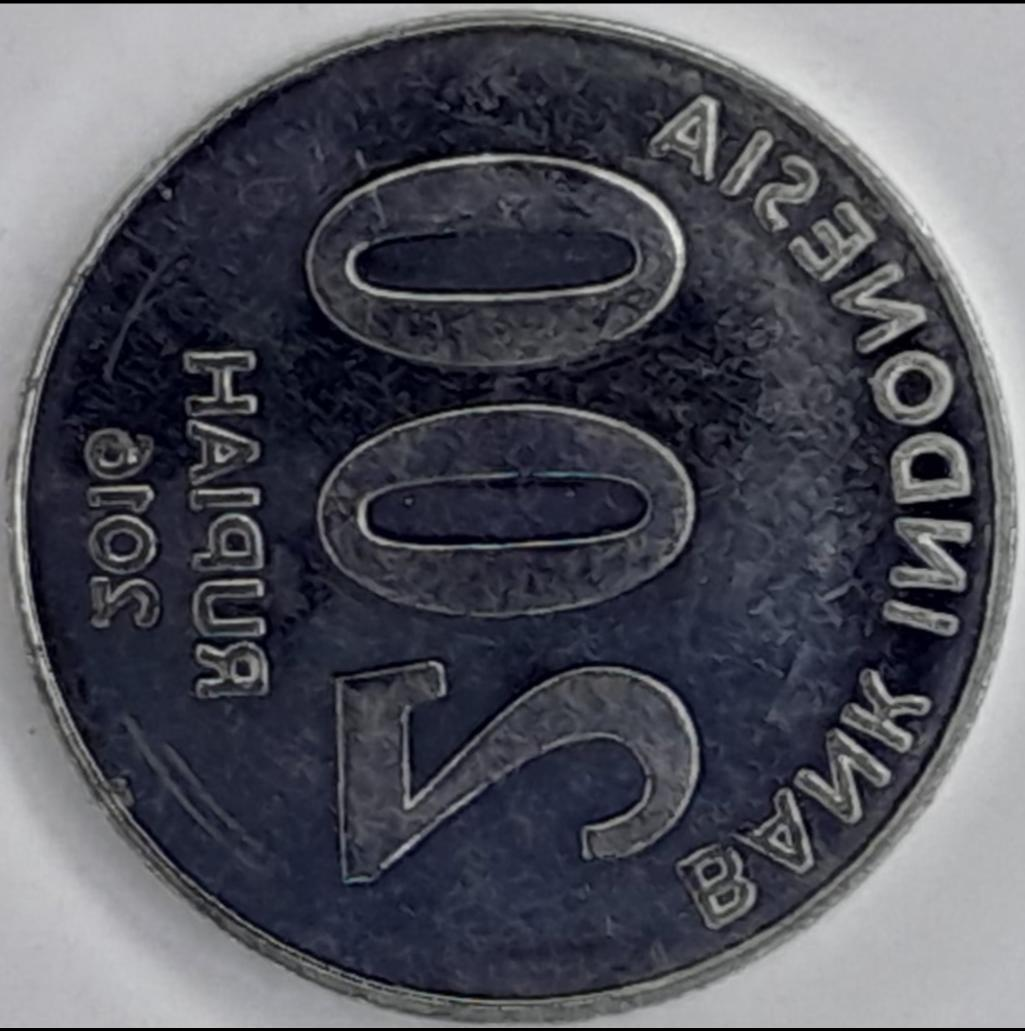coin_200_e2016: (0, 18, 1025, 1031)
